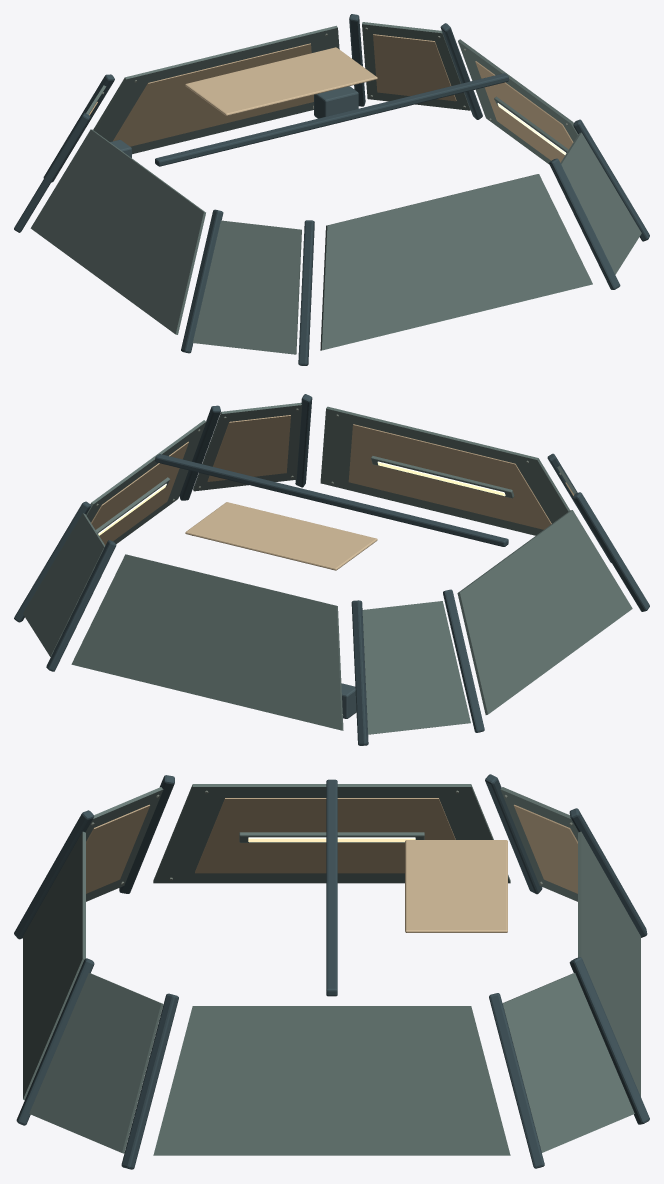
Rendered from cabin_roof_trim.glb.
3 renders of one model, top to bottom at view 1: azimuth 30°, elevation 25°; view 2: azimuth 150°, elevation 25°; view 3: azimuth 270°, elevation 25°, orthographic. The views are drawn at different scales.
Visible parts, largest first — view 1: cabin_roof_trim; view 2: cabin_roof_trim; view 3: cabin_roof_trim.
Part boxes in pixels (x1,y1,x2,y2): cabin_roof_trim: (14, 14, 649, 365); cabin_roof_trim: (14, 394, 649, 745); cabin_roof_trim: (14, 774, 649, 1169).
Bounding box in the file's own units: 4.03 × 0.9748 × 3.83.
